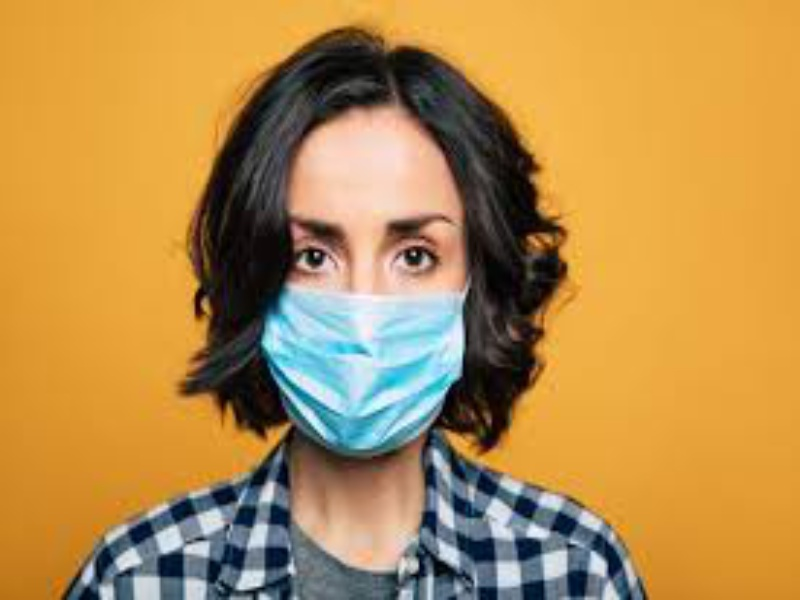ManaoArotava: (206, 68, 529, 480)
